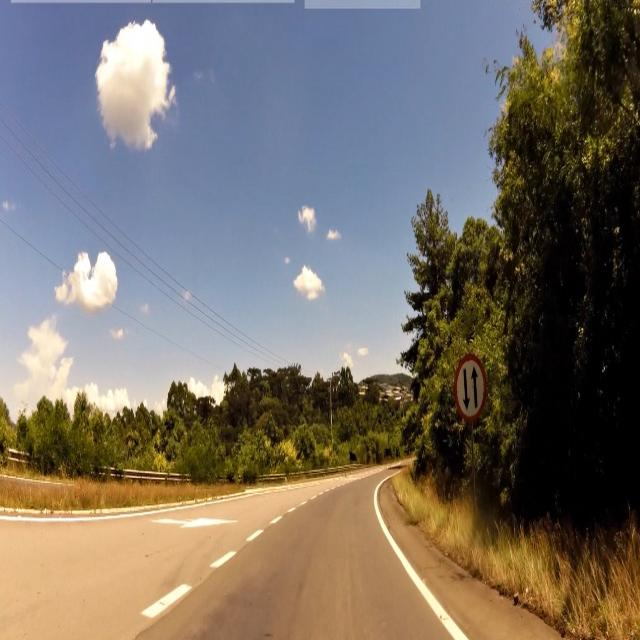R-28: (455, 358, 490, 425)
